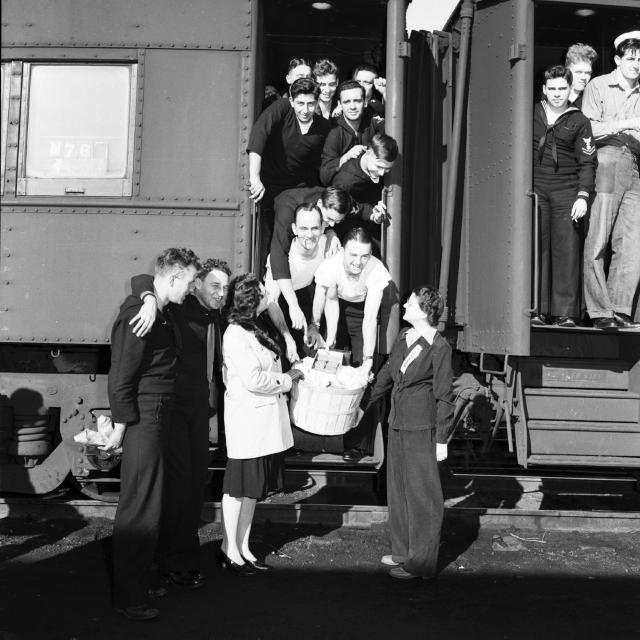body: (101, 246, 206, 623), (128, 256, 247, 578), (353, 283, 455, 583), (216, 271, 302, 573), (519, 65, 598, 328), (314, 225, 393, 461), (580, 27, 640, 328), (246, 75, 331, 287), (0, 385, 91, 563), (253, 184, 354, 338), (262, 202, 341, 364), (323, 131, 400, 261), (318, 77, 387, 188), (334, 64, 386, 119), (564, 42, 598, 110), (310, 58, 342, 124), (282, 57, 315, 99), (265, 83, 279, 111)
